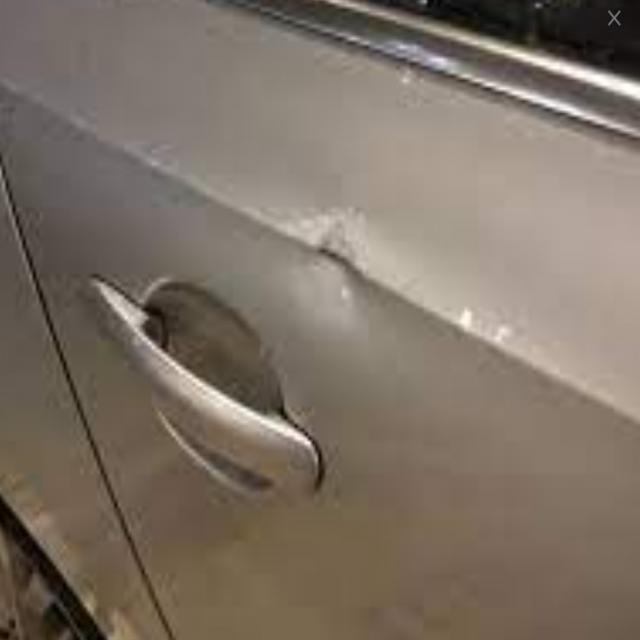dents: (294, 201, 380, 338)
